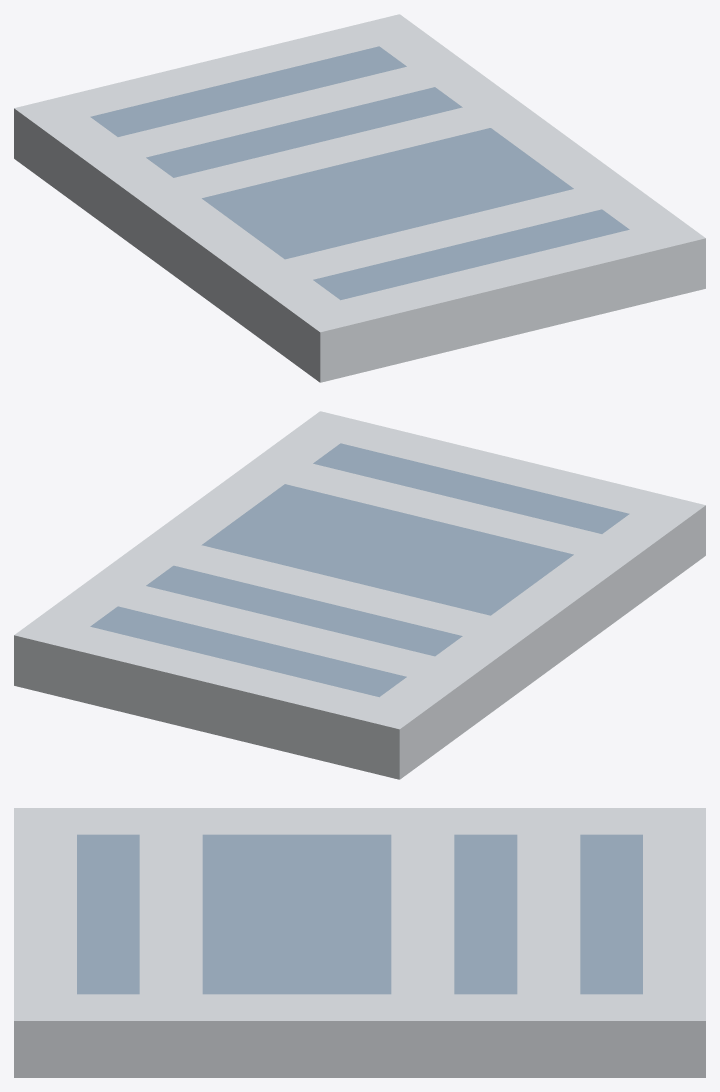
Rendered from papers.002_0_lev1_lev3.glb.
The picture shows the model from 3 angles, top to bottom: view 1: azimuth 30°, elevation 25°; view 2: azimuth 150°, elevation 25°; view 3: azimuth 270°, elevation 25°; orthographic projection. The views are drawn at different scales.
Parts seen in each view (by area): view 1: papers.002_0_lev1_lev3; view 2: papers.002_0_lev1_lev3; view 3: papers.002_0_lev1_lev3.
Part boxes in pixels (x1,y1,x2,y2): papers.002_0_lev1_lev3: [14, 14, 705, 382]; papers.002_0_lev1_lev3: [14, 411, 705, 779]; papers.002_0_lev1_lev3: [14, 808, 705, 1077].
Size of the model in its own units: 0.4783 by 0.0598 by 0.6577.
1 material, 1 textured.
